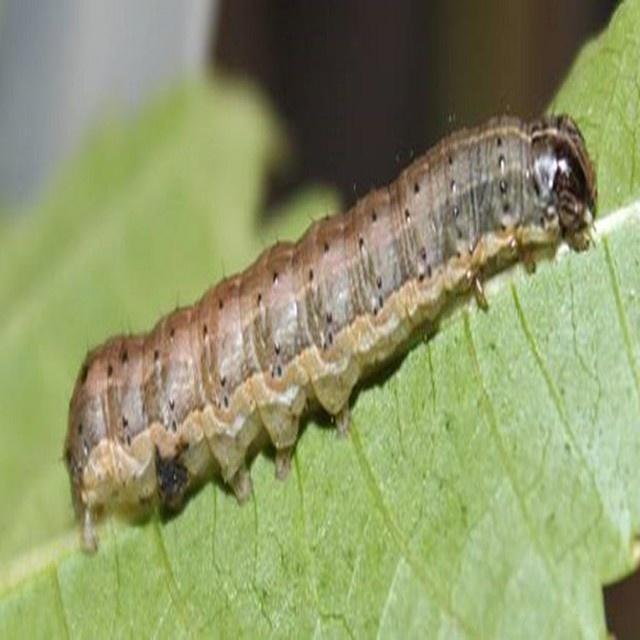gusano_cogollero: (58, 101, 602, 563)
